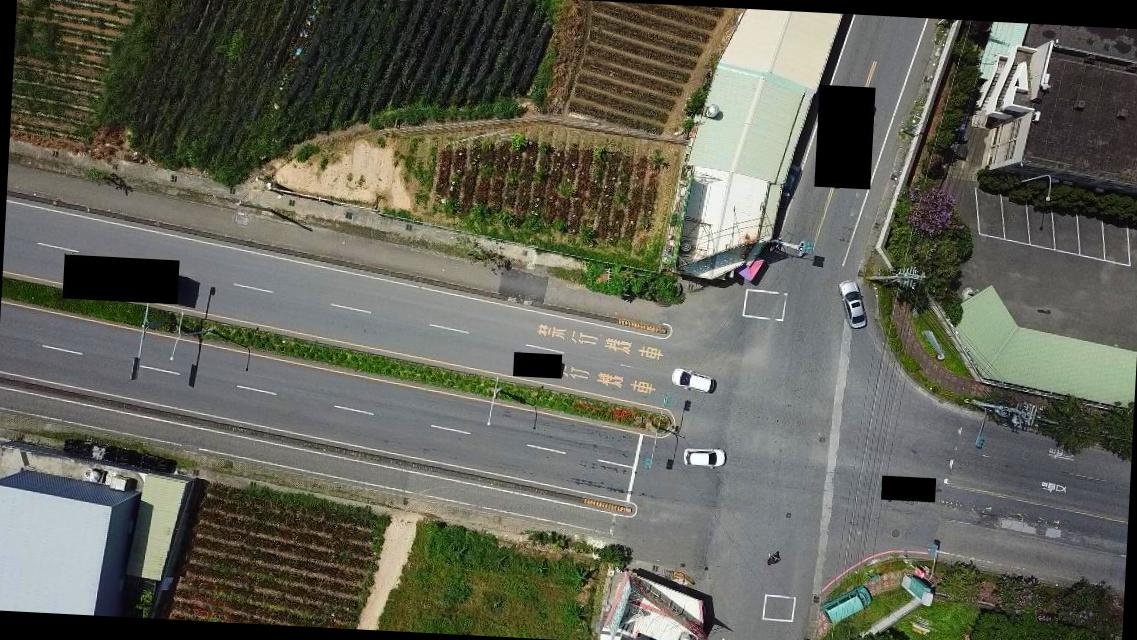vehicle: (820, 582, 873, 626), (836, 280, 871, 331), (670, 368, 717, 394), (680, 446, 725, 469)
